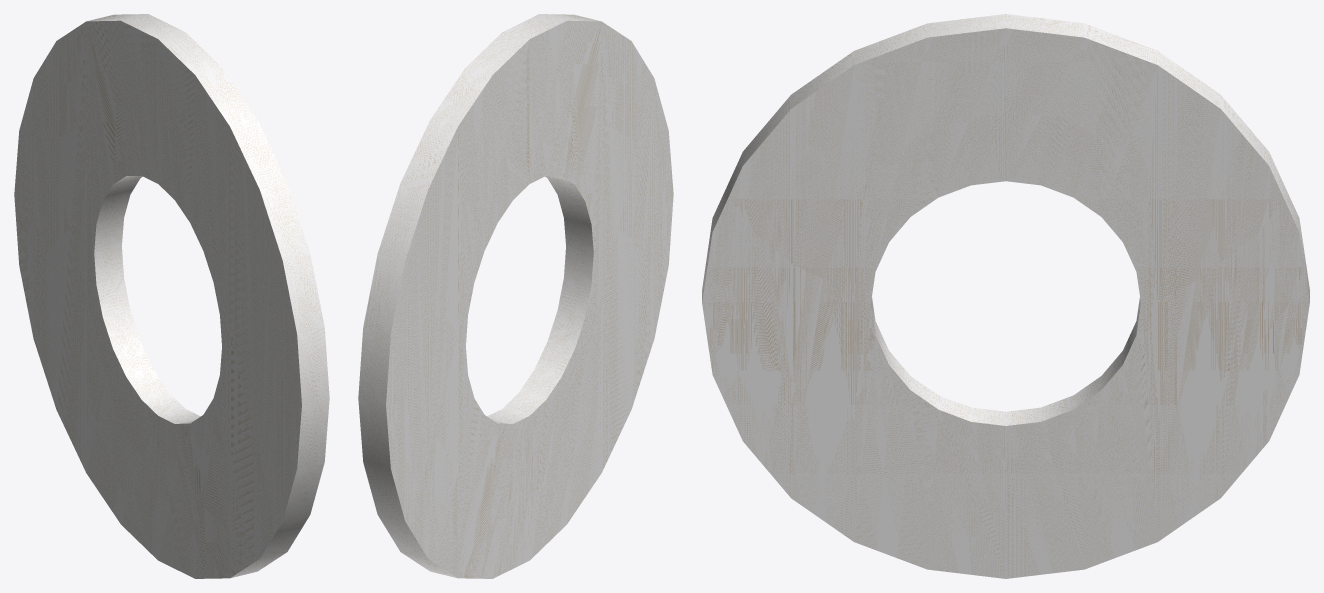
Rendered from original-20.obj.
3 views of the same model, side by side, from view 1: azimuth 30°, elevation 25°; view 2: azimuth 150°, elevation 25°; view 3: azimuth 270°, elevation 25° (orthographic). The views are drawn at different scales.
Parts seen in each view (by area): view 1: Washer_M8_9/Washer_M8_1_2/mesh5/mesh5-geometry#mesh5-geometry; view 2: Washer_M8_9/Washer_M8_1_2/mesh5/mesh5-geometry#mesh5-geometry; view 3: Washer_M8_9/Washer_M8_1_2/mesh5/mesh5-geometry#mesh5-geometry.
Part boxes in pixels (x1,y1,x2,y2): Washer_M8_9/Washer_M8_1_2/mesh5/mesh5-geometry#mesh5-geometry: (14, 14, 329, 578); Washer_M8_9/Washer_M8_1_2/mesh5/mesh5-geometry#mesh5-geometry: (358, 14, 673, 578); Washer_M8_9/Washer_M8_1_2/mesh5/mesh5-geometry#mesh5-geometry: (702, 14, 1309, 578).
Bounding box in the file's own units: 0.00241 × 0.0433 × 0.0433.
